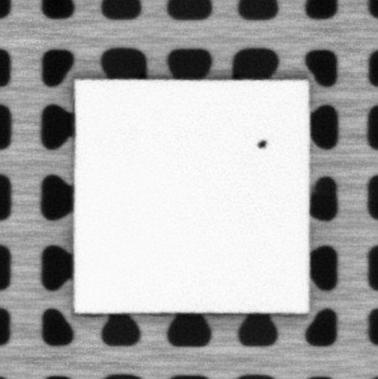DIE_INK: (254, 137, 270, 150)
